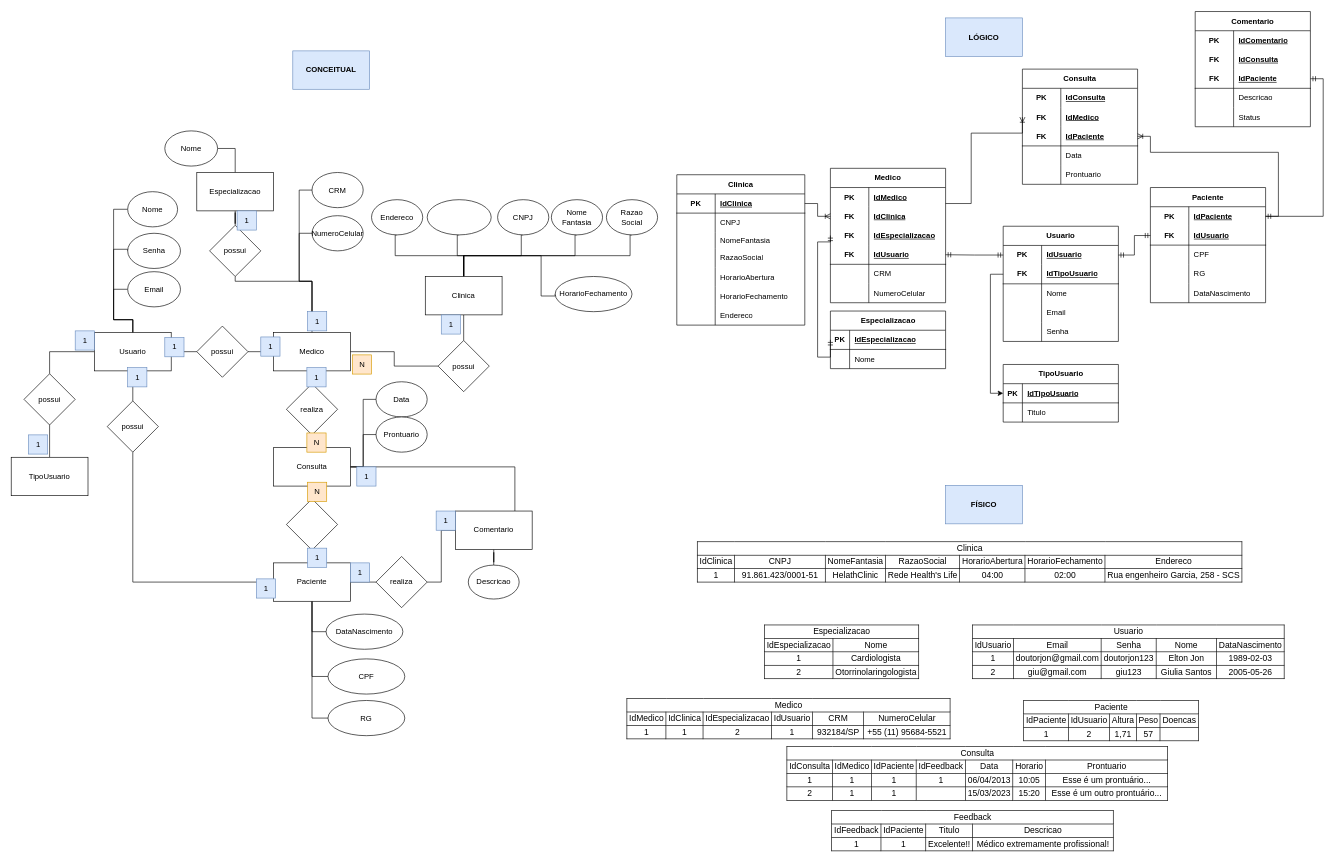
This 1340x862 diagram has some shape labels left out. The shapes that lost their labels are listed below. From the top down, each one's centre as x and y in pixels, then its label:
[459,217]: Horario Abertura
[312,524]: atende
